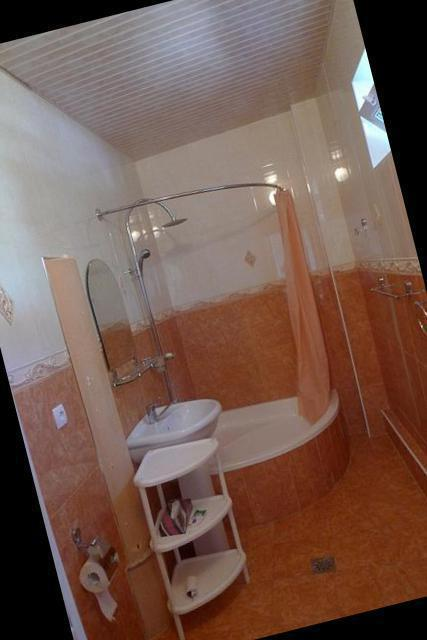Ducha: (96, 179, 251, 484)
Lavamanos: (119, 386, 228, 475)
